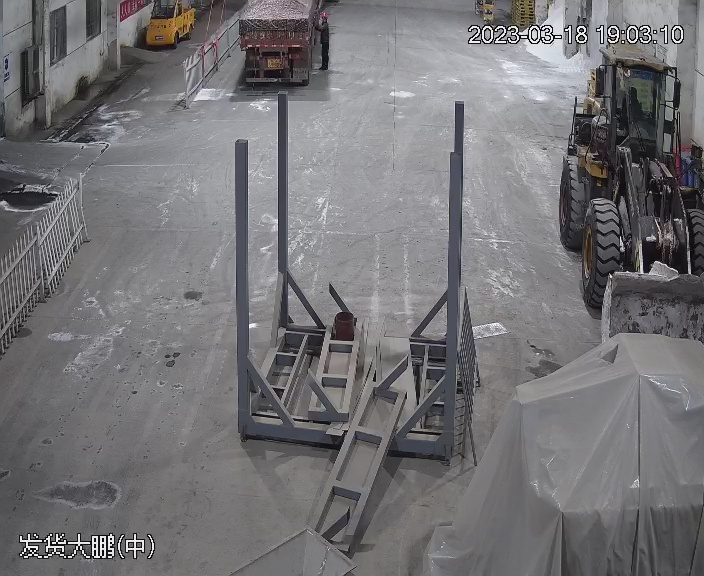head: (317, 10, 331, 30)
helmet: (319, 10, 329, 18)
people: (315, 8, 332, 71)
truck: (235, 0, 332, 90)
